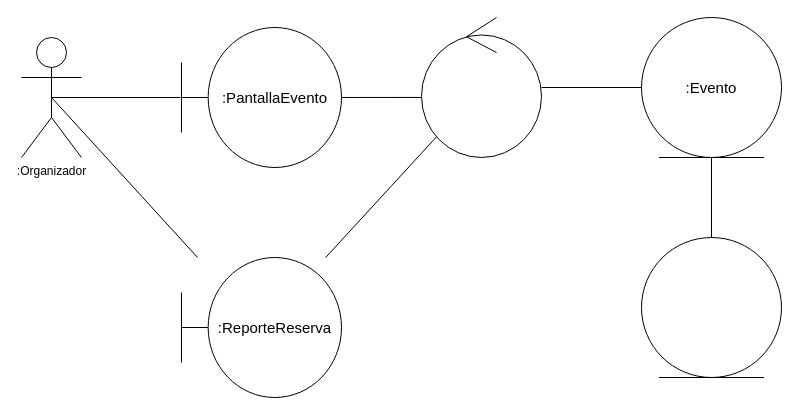
This 799x415 diagram has some shape labels left out. The shapes that lost their labels are listed below. From the top down, each one's centre as x and y in pixels, then its label:
At point 481,87: ":Generador Reporte".
At point 711,307: ":Reserva".
